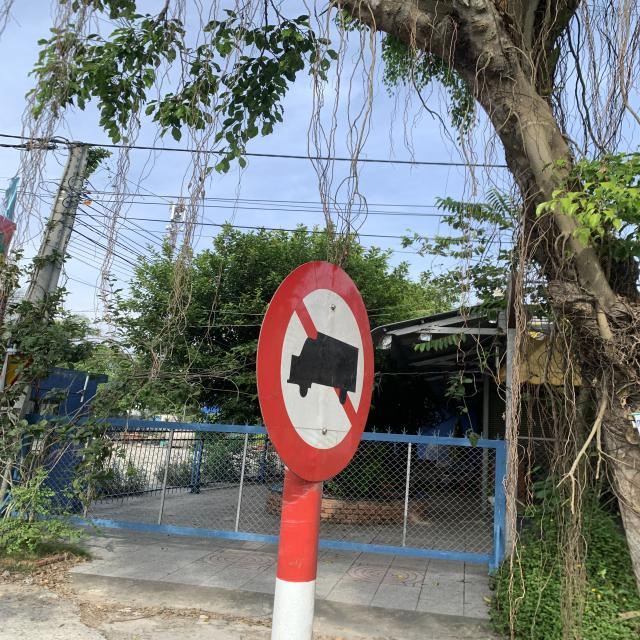Cam_Xe_Tai: (256, 259, 376, 484)
